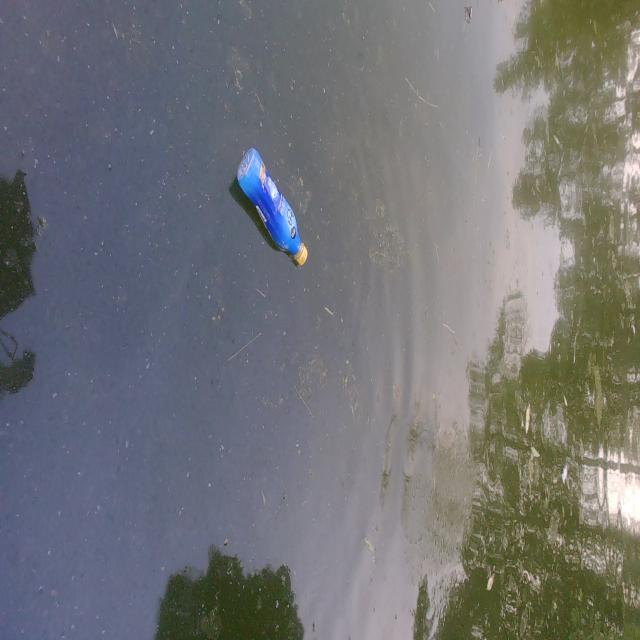Bottle: (232, 144, 310, 266)
